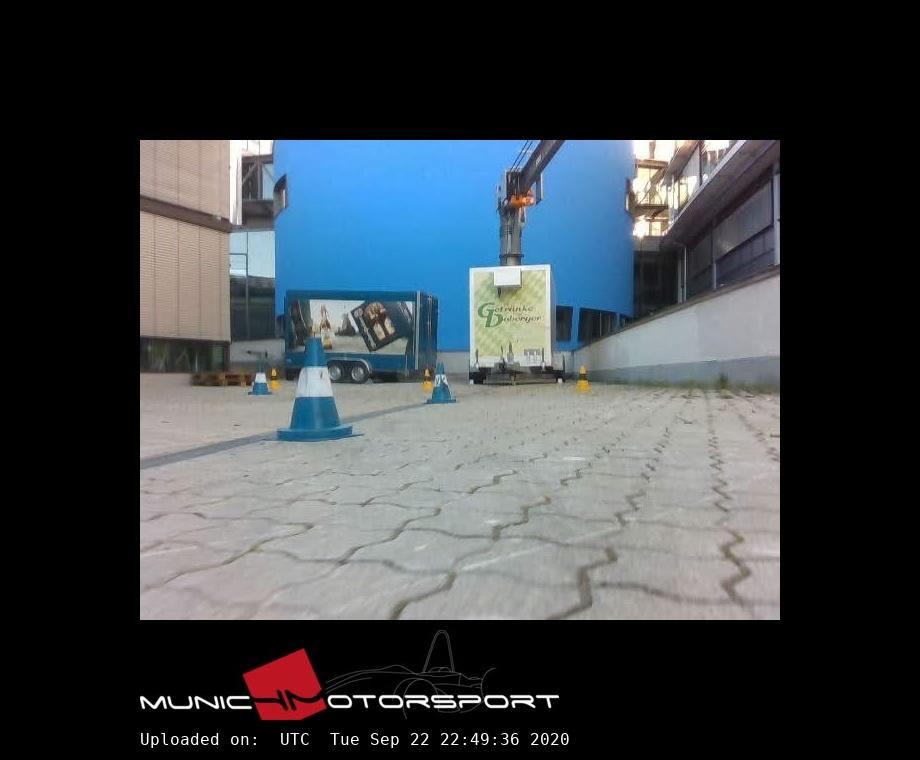blue_cone: (277, 338, 363, 441), (427, 364, 458, 403), (248, 363, 270, 395)
yellow_cone: (574, 366, 590, 391), (269, 367, 281, 389), (421, 369, 433, 389)
